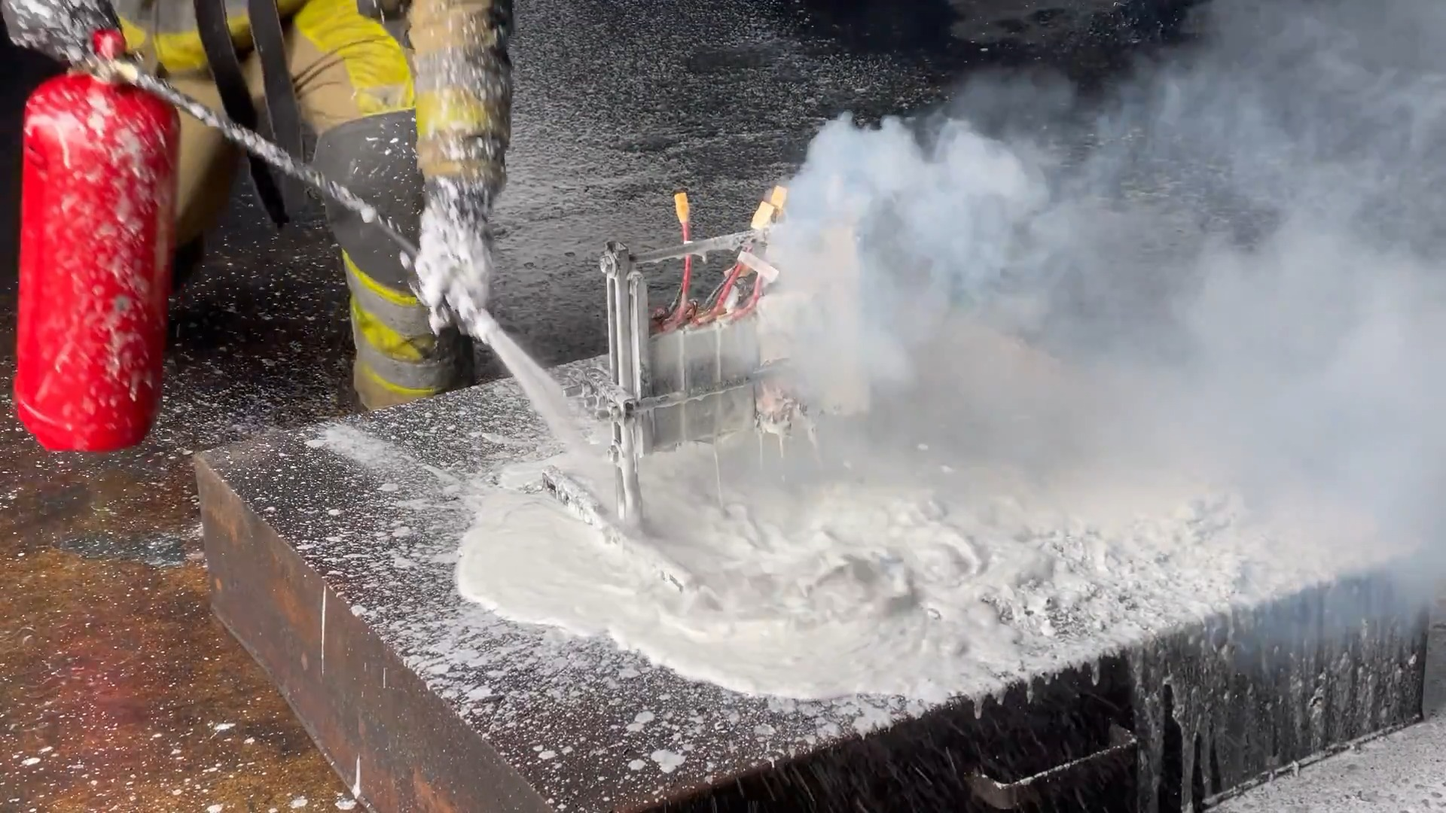smoke: (759, 0, 1446, 519)
